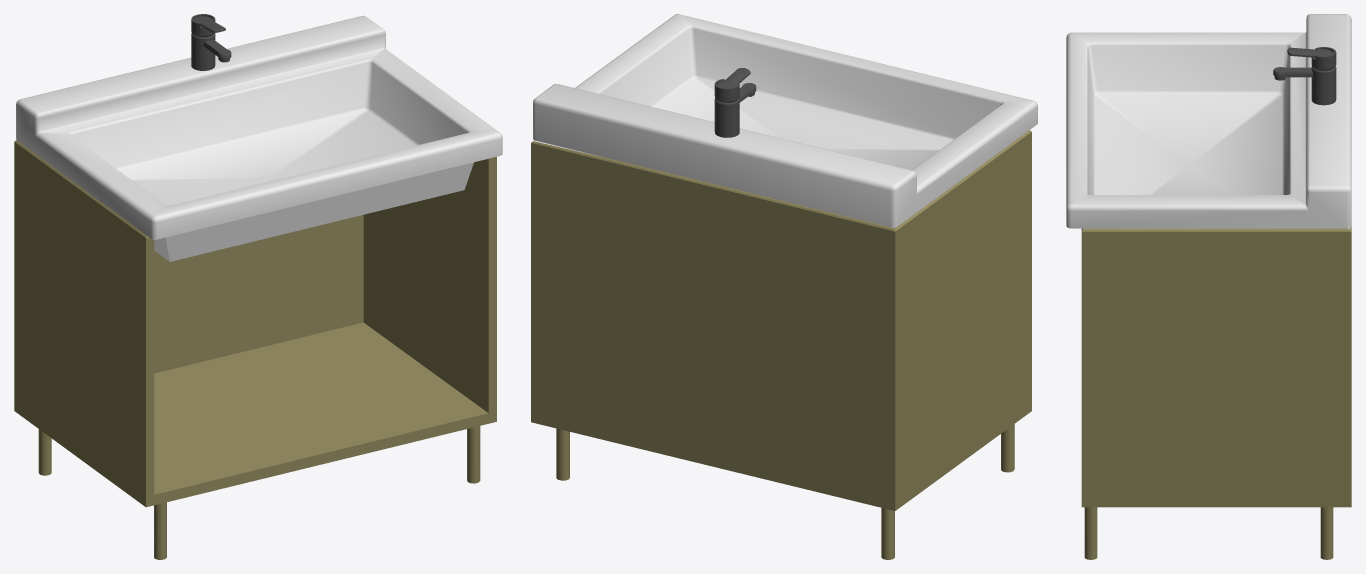
The model's file is VatternSinkCabinetWithFaucet.FBX.
3 renders of one model, left to right at view 1: azimuth 30°, elevation 25°; view 2: azimuth 150°, elevation 25°; view 3: azimuth 270°, elevation 25°, orthographic. The views are drawn at different scales.
Parts seen in each view (by area): view 1: VatternSinkCabinetWithFaucet; view 2: VatternSinkCabinetWithFaucet; view 3: VatternSinkCabinetWithFaucet.
Boxes of the visible parts, <box> form: VatternSinkCabinetWithFaucet: <box>14,14,502,559</box>; VatternSinkCabinetWithFaucet: <box>531,14,1037,559</box>; VatternSinkCabinetWithFaucet: <box>1066,14,1351,559</box>.
Size of the model in its own units: 80 by 55 by 91.29.
